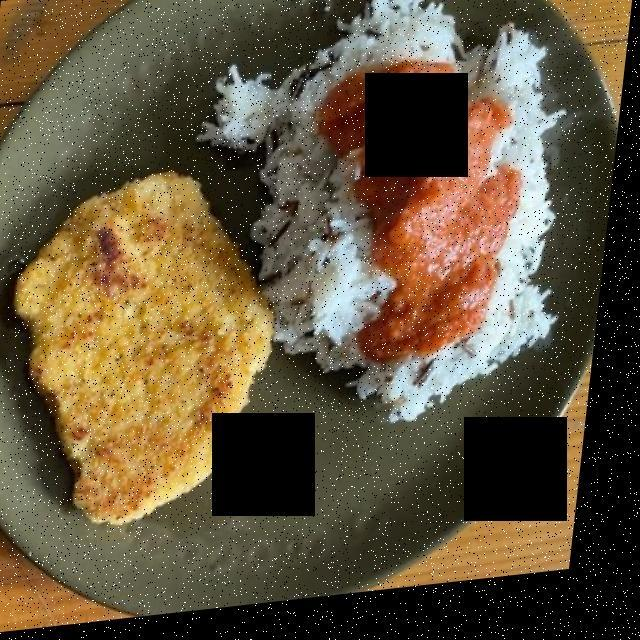rice: (199, 4, 565, 436)
tomato-sauce: (337, 81, 516, 365)
